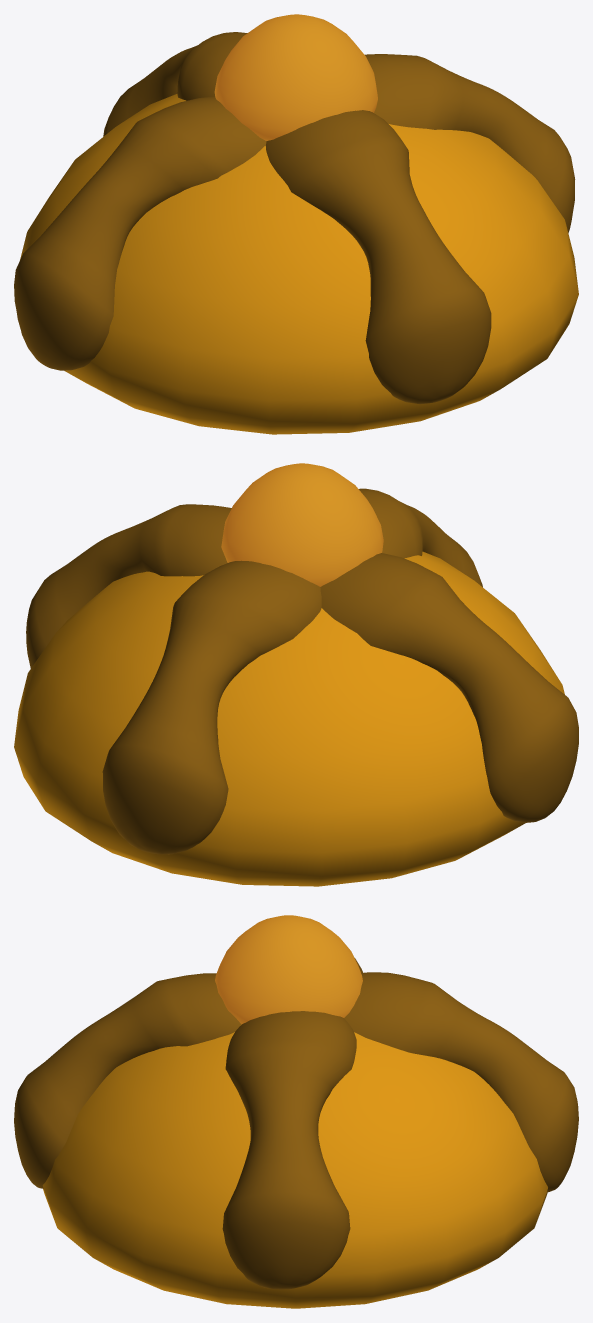
The model's file is pan de muerto vdd 3.fbx.
3 renders of one model, top to bottom at view 1: azimuth 30°, elevation 25°; view 2: azimuth 150°, elevation 25°; view 3: azimuth 270°, elevation 25°, orthographic. The views are drawn at different scales.
Visible parts, largest first — view 1: Esfera.001, Esfera.002, Esfera.005, Esfera.011, Esfera.004, Esfera.003; view 2: Esfera.001, Esfera.003, Esfera.005, Esfera.011, Esfera.004, Esfera.002; view 3: Esfera.001, Esfera.004, Esfera.003, Esfera.002, Esfera.011.
Part boxes in pixels (x1,y1,x2,y2): Esfera.001: [20, 94, 578, 434]; Esfera.002: [265, 110, 491, 404]; Esfera.005: [14, 96, 266, 370]; Esfera.011: [214, 14, 377, 140]; Esfera.004: [365, 54, 575, 232]; Esfera.003: [103, 32, 247, 136]; Esfera.001: [14, 551, 564, 886]; Esfera.003: [102, 560, 321, 854]; Esfera.005: [320, 553, 578, 822]; Esfera.011: [221, 463, 383, 586]; Esfera.004: [26, 504, 231, 668]; Esfera.002: [359, 488, 482, 587]; Esfera.001: [42, 1032, 547, 1308]; Esfera.004: [222, 1011, 356, 1289]; Esfera.003: [344, 972, 578, 1192]; Esfera.002: [14, 973, 241, 1188]; Esfera.011: [215, 915, 362, 1024].
Bounding box in the file's own units: 383 × 222 × 380.
